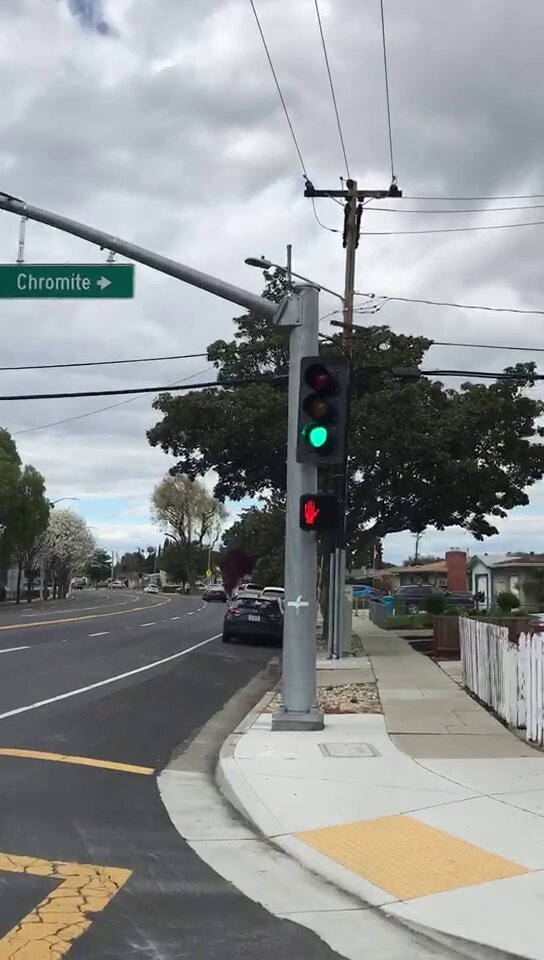green_light: (300, 358, 343, 464)
